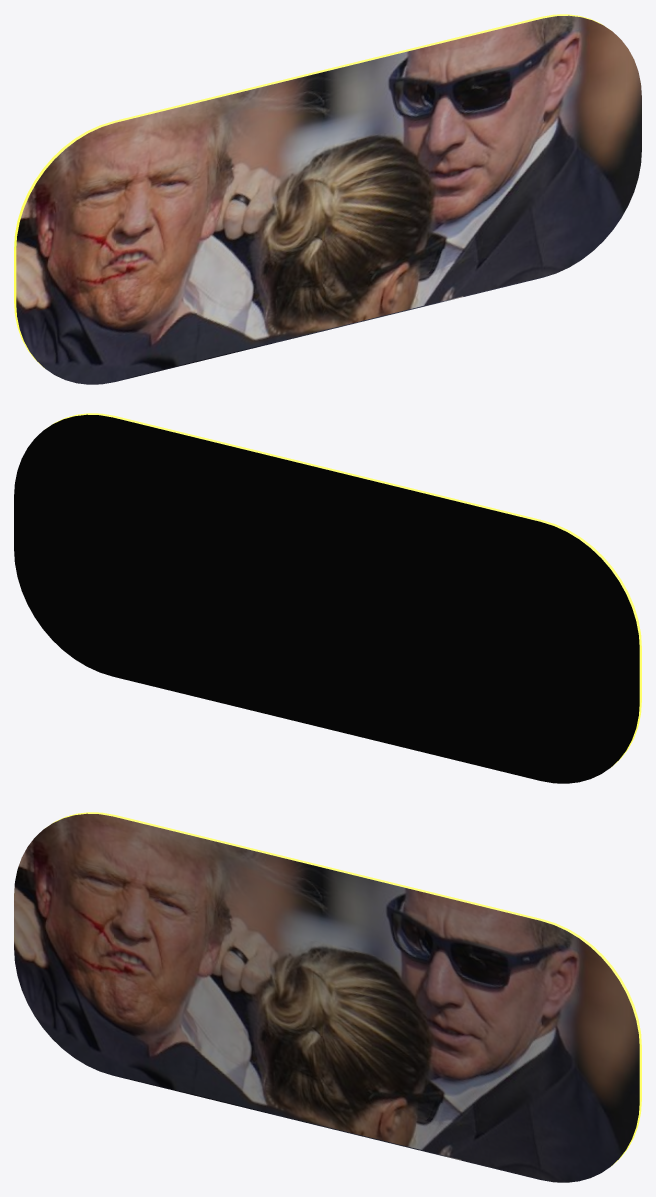
Rendered from screen.glb.
The picture shows the model from 3 angles, top to bottom: view 1: azimuth 30°, elevation 25°; view 2: azimuth 150°, elevation 25°; view 3: azimuth 330°, elevation 25°; orthographic projection.
Parts seen in each view (by area): view 1: face, Curve.001; view 2: Curve, Curve.001; view 3: face, Curve.001.
Part boxes in pixels (x1=…): face: x1=16, y1=15, x2=641, y2=384; Curve.001: x1=14, y1=14, x2=603, y2=368; Curve: x1=14, y1=414, x2=639, y2=783; Curve.001: x1=52, y1=413, x2=641, y2=767; face: x1=14, y1=813, x2=639, y2=1182; Curve.001: x1=52, y1=812, x2=641, y2=1166.
Bounding box in the file's own units: 3.94 × 1.56 × 0.0237.
Materials: 3 (1 with a texture image).
